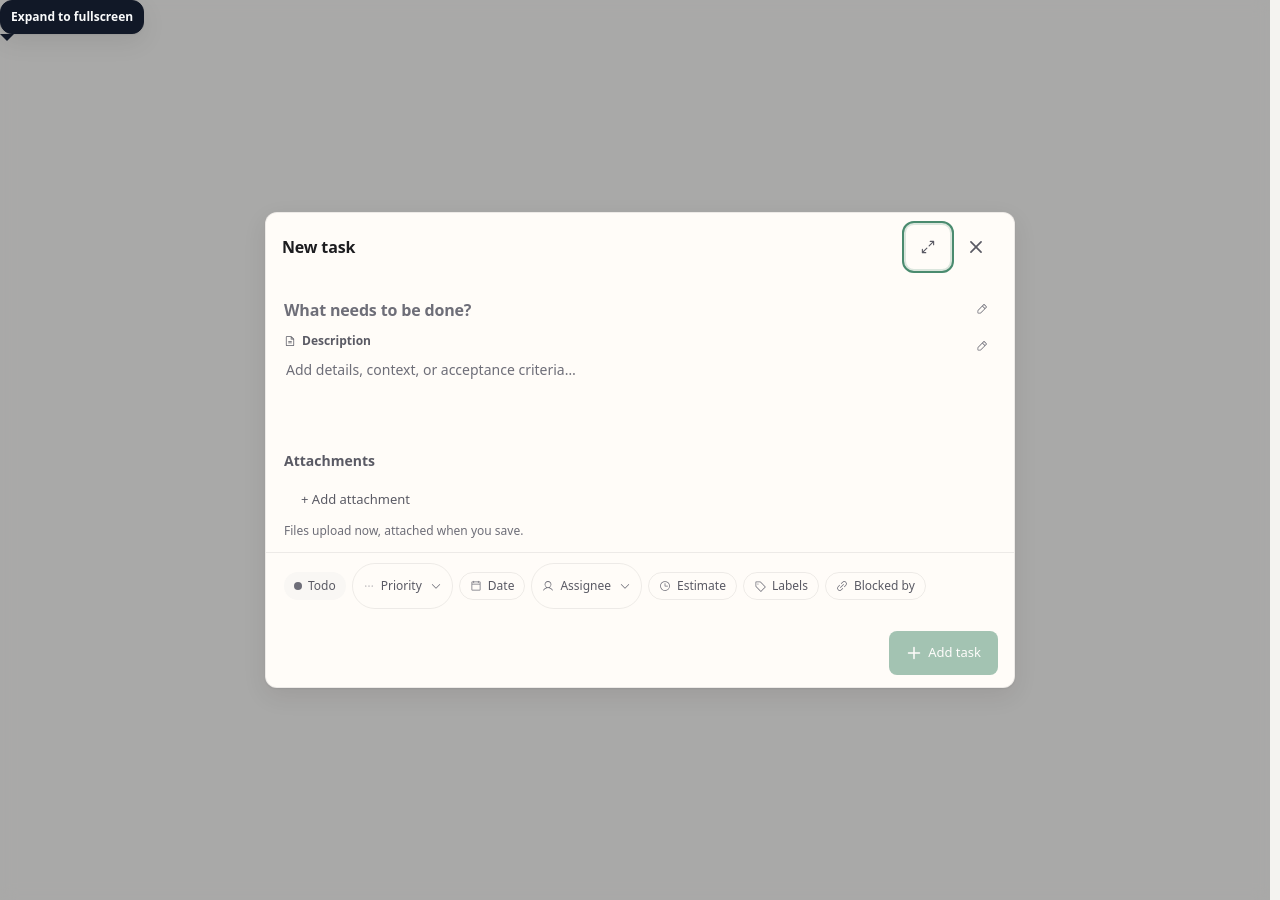
Test case: NewTaskModal assignee picker › offers "Assign to me" exactly once without a duplicate current-user row
Step 1. Click the button "Assignee" → (596, 586), box [560,568,631,604]
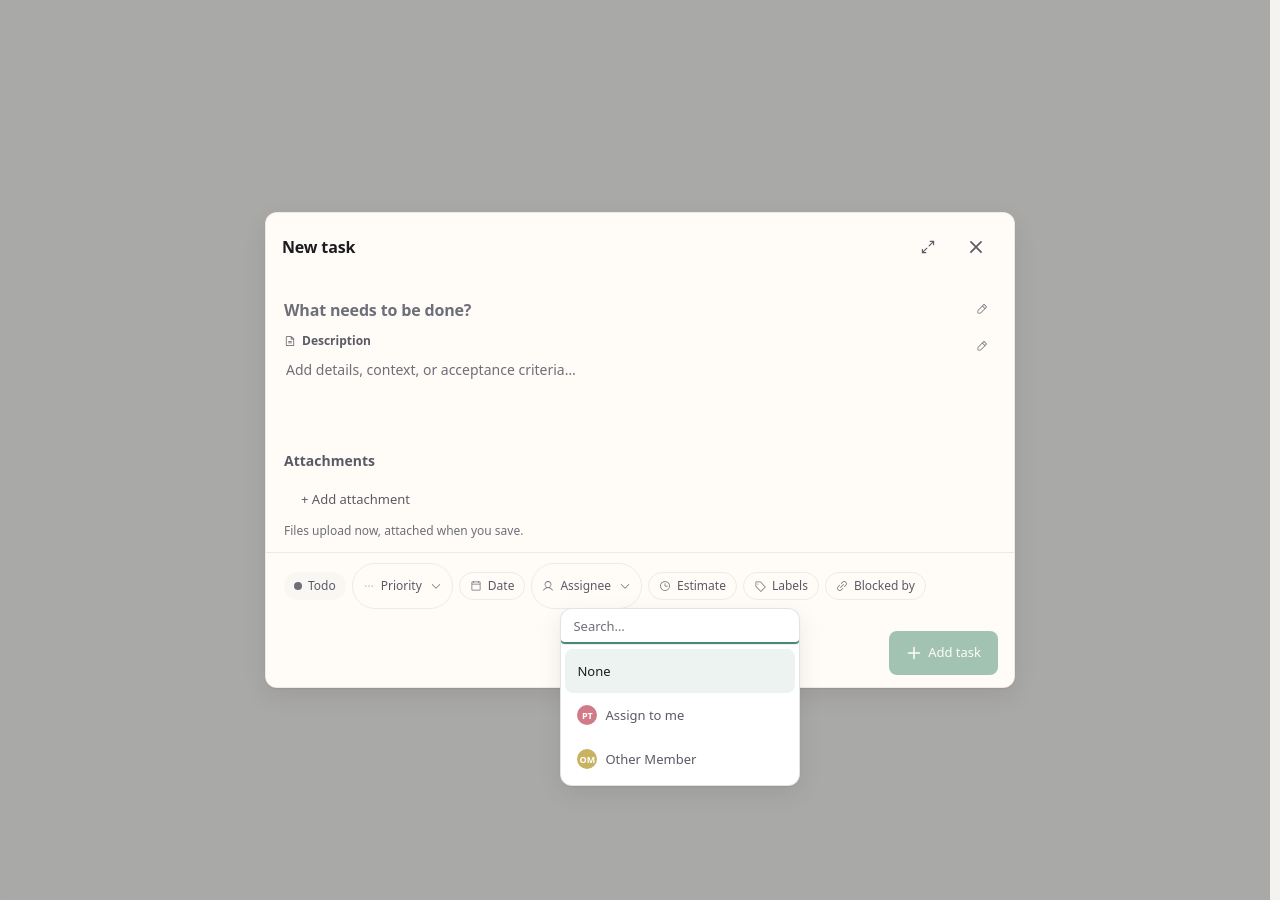
Result: the number of options "PT Assign to me" is 1 at [565,693,795,737]
Result: the option "OM Other Member" is shown at [565,737,795,781]
